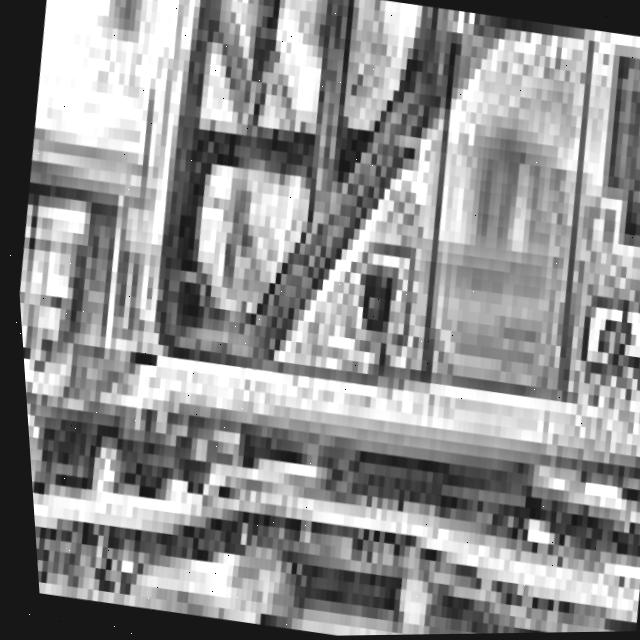excavator: (71, 0, 640, 564)
